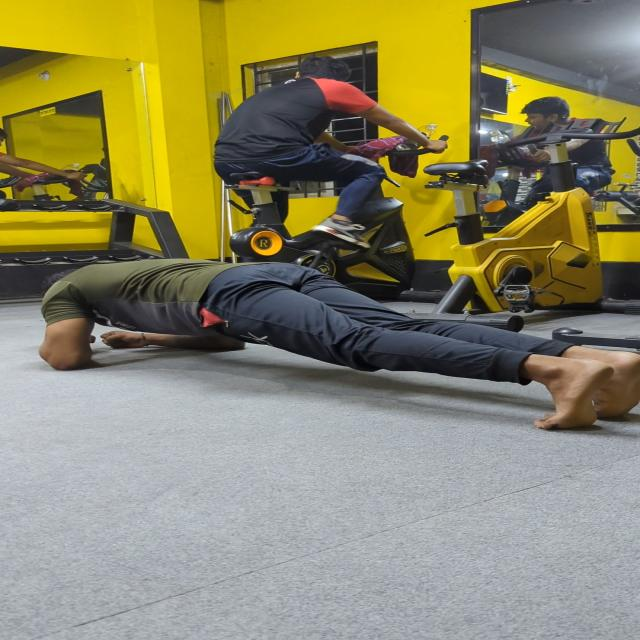Normal_Plunk: (0, 176, 640, 436)
